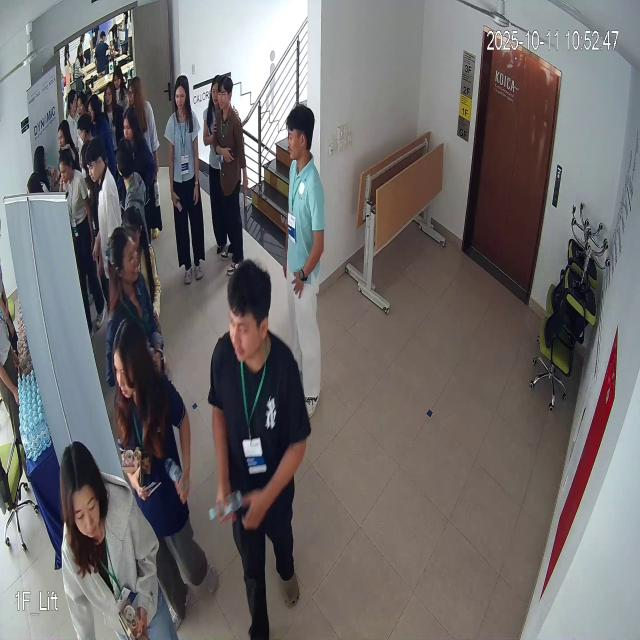face: (225, 256, 274, 364), (107, 222, 142, 296), (286, 96, 319, 170)
